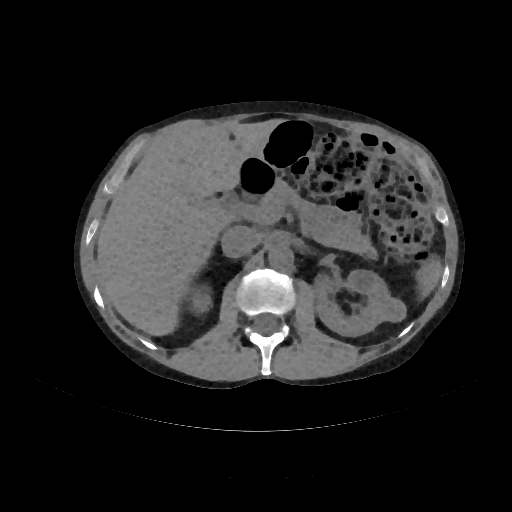Lesion: (378, 292, 409, 327)
